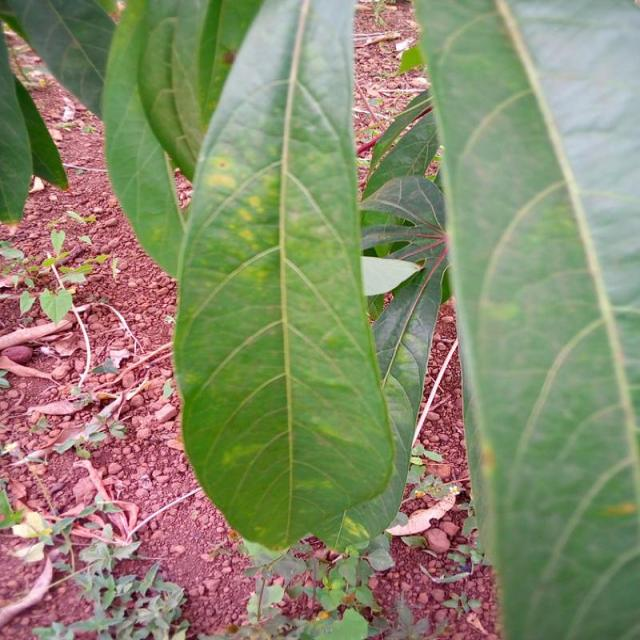cassava leaf: (411, 0, 639, 638), (171, 0, 398, 554)
